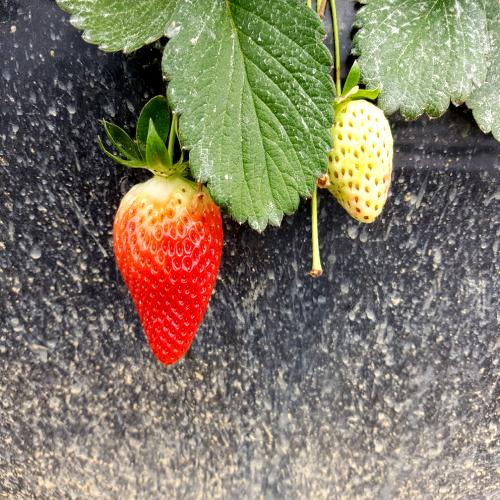ripe: (110, 167, 231, 382)
